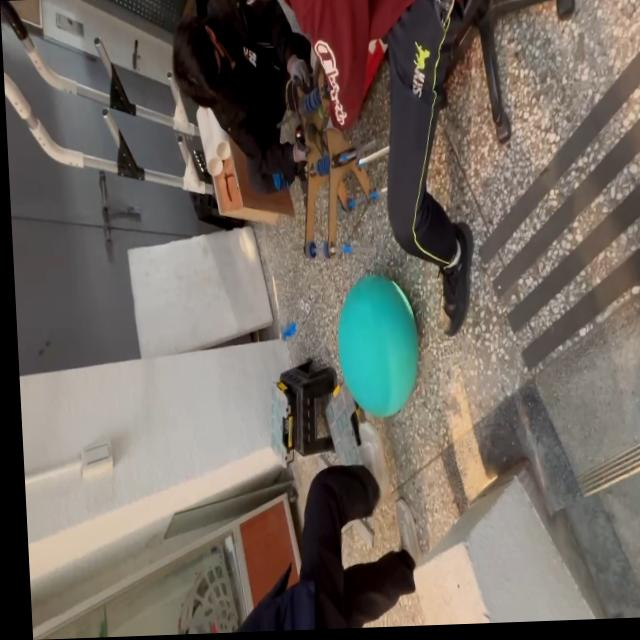ALGAE: (333, 272, 424, 421)
